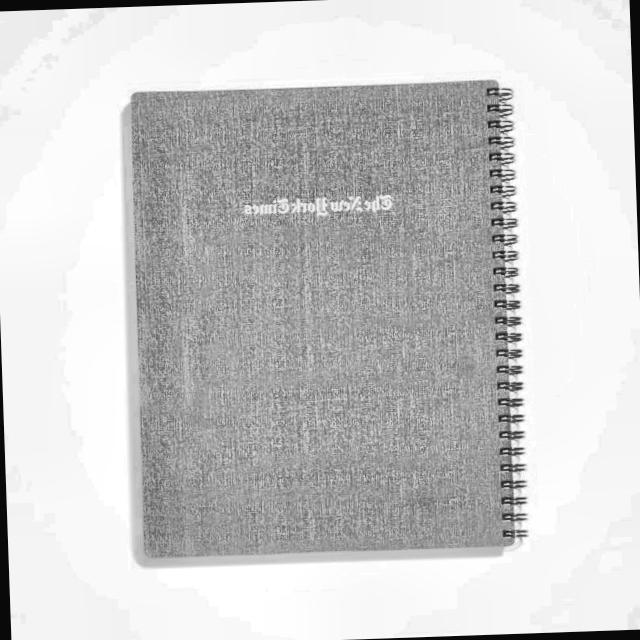Notebook: (99, 48, 556, 578)
